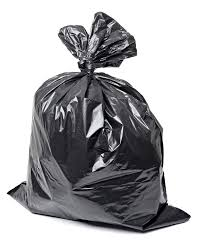Trash: (10, 10, 197, 240)
